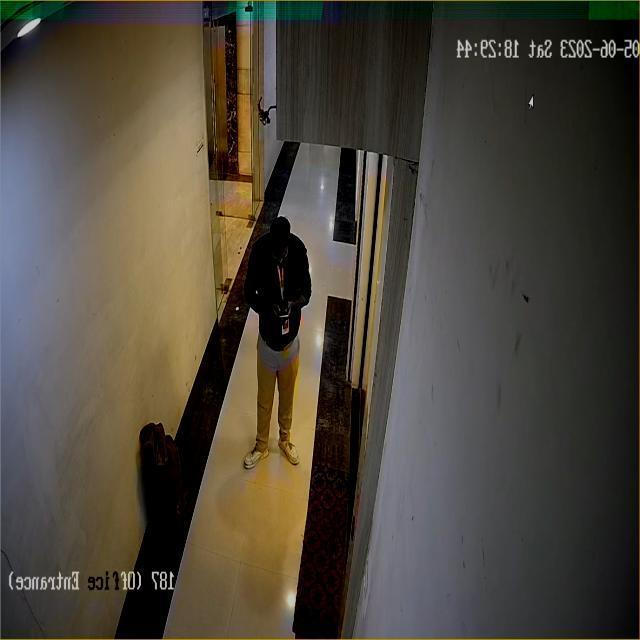gunny_bag: (135, 416, 190, 542)
